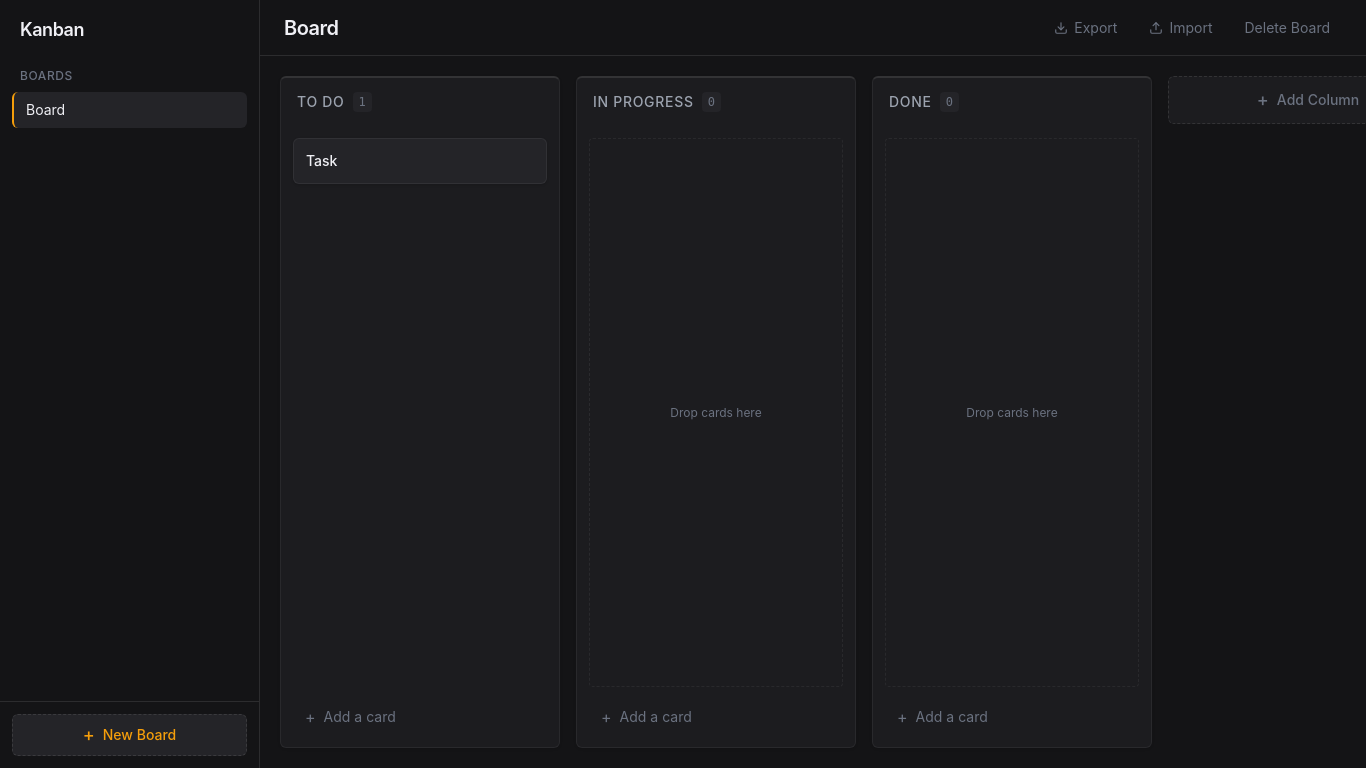
Test: Card detail editing integration › opens modal, edits title/description/priority, saves
The image size is (1366, 768).
Click the button "Task": (322, 161) top-left (306, 151), bottom-right (337, 171)
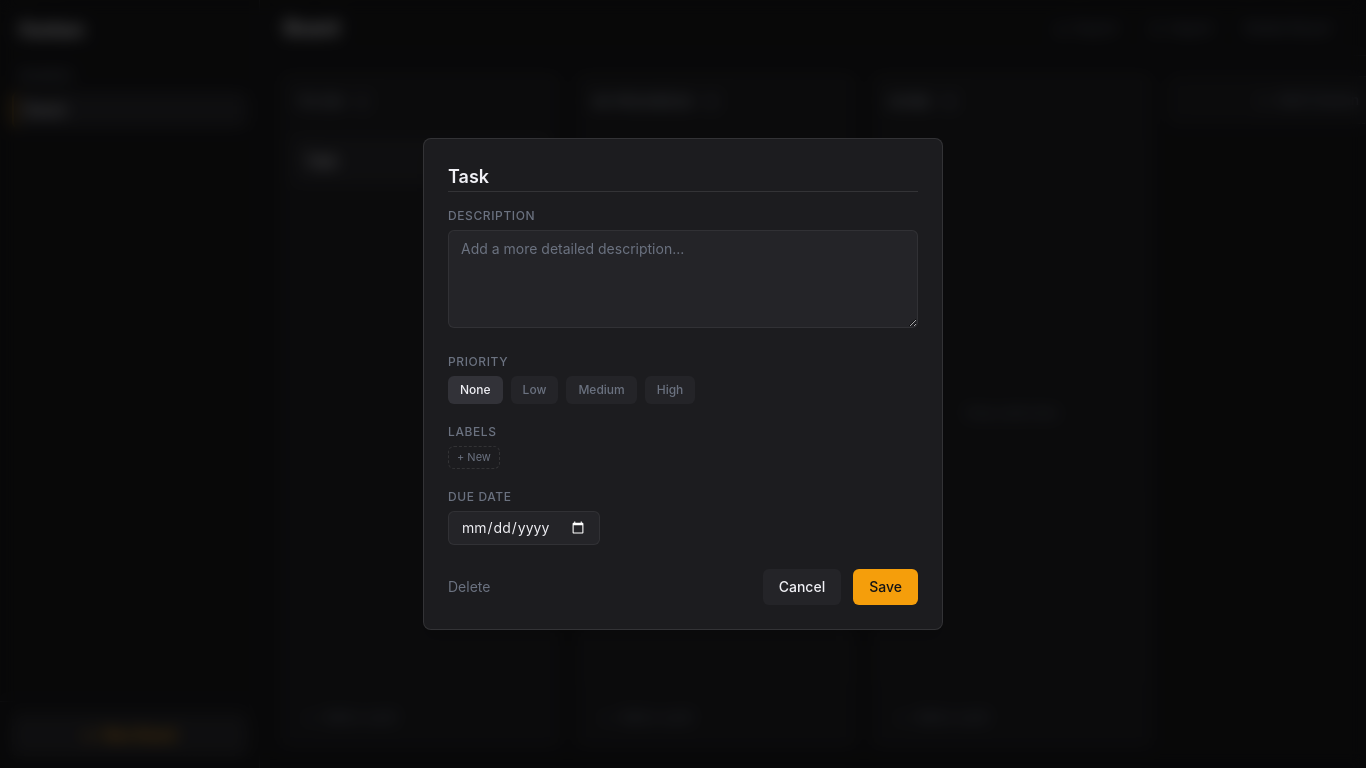
expect the dialog is shown: met, box top-left (423, 138), bottom-right (943, 630)
Replace the text in the field showing "Task" with "Updated Task": (683, 178) top-left (448, 163), bottom-right (918, 192)
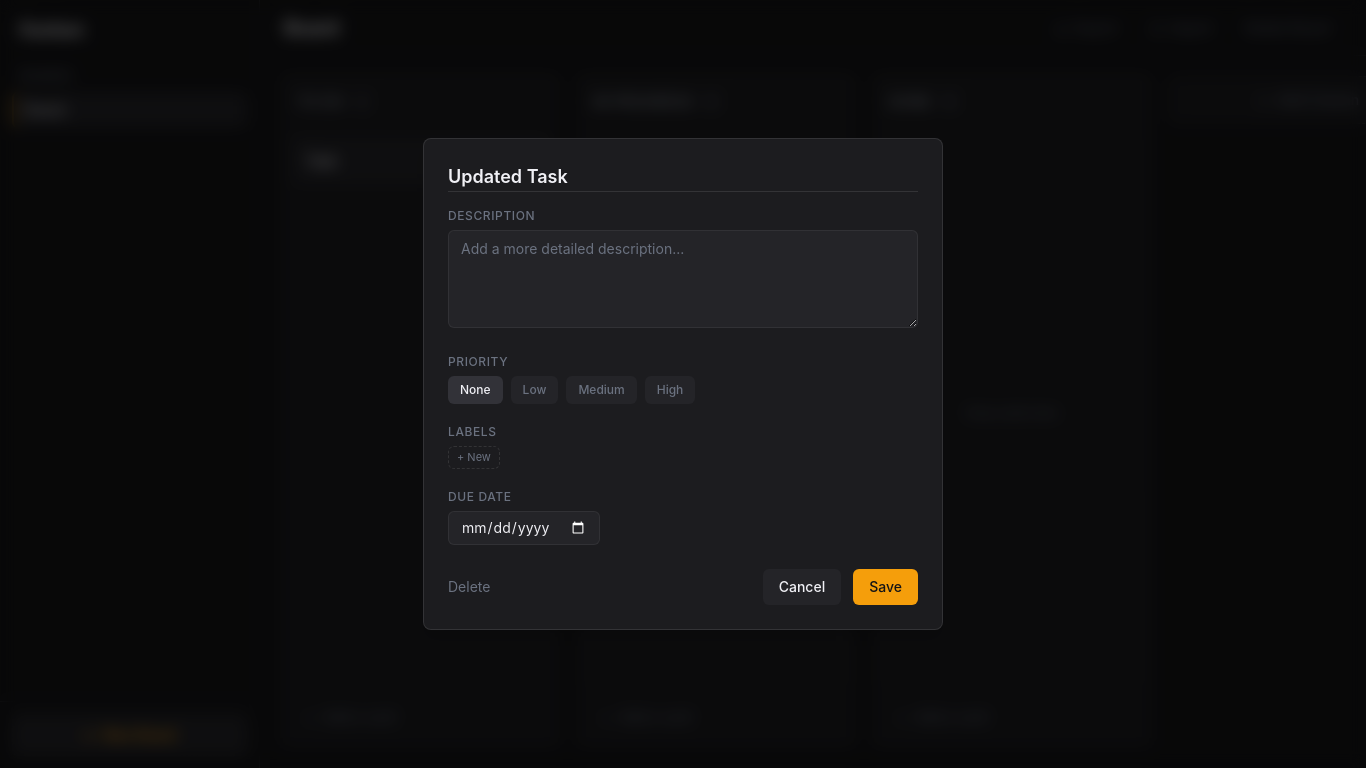
In the text box with placeholder "Add a more detailed description...": (683, 279) top-left (448, 230), bottom-right (918, 328), type "New description"
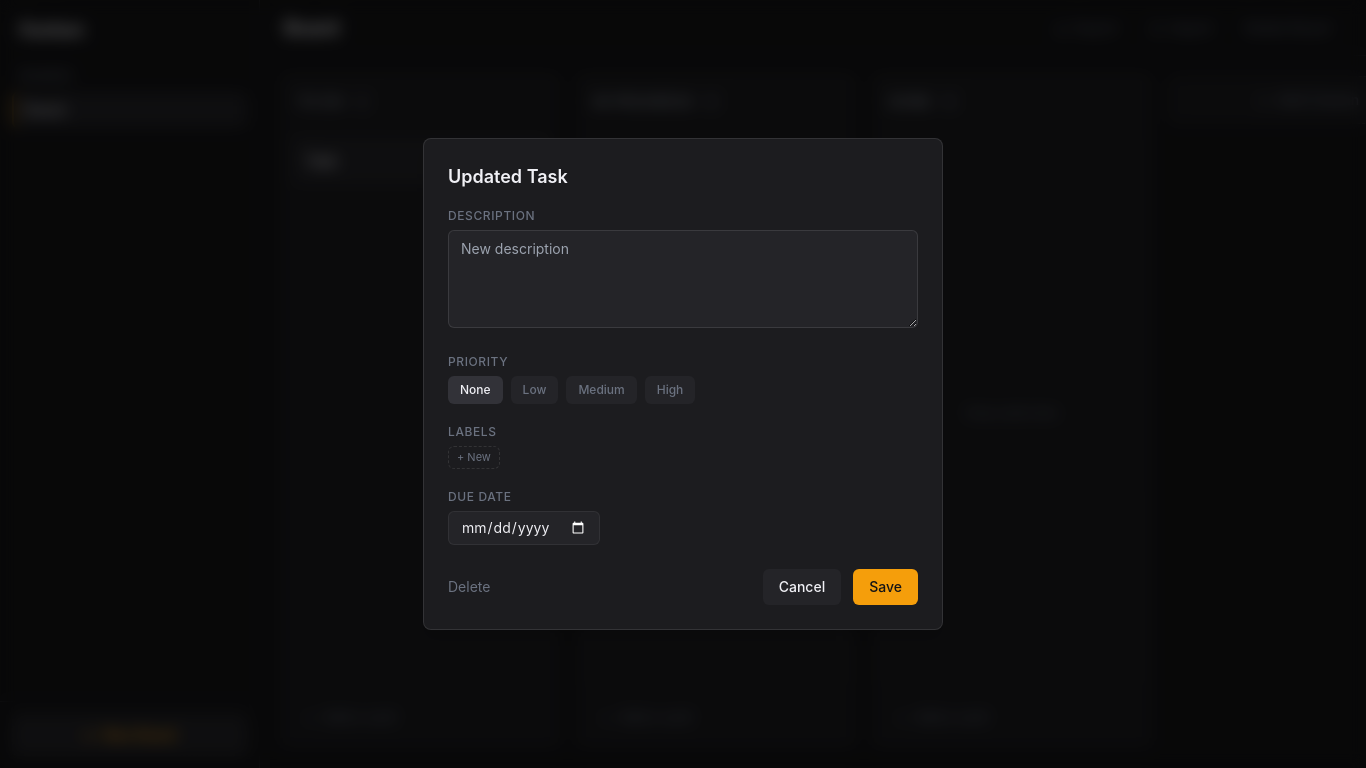
Click the radio button labelled "High": (670, 390) top-left (645, 376), bottom-right (695, 404)
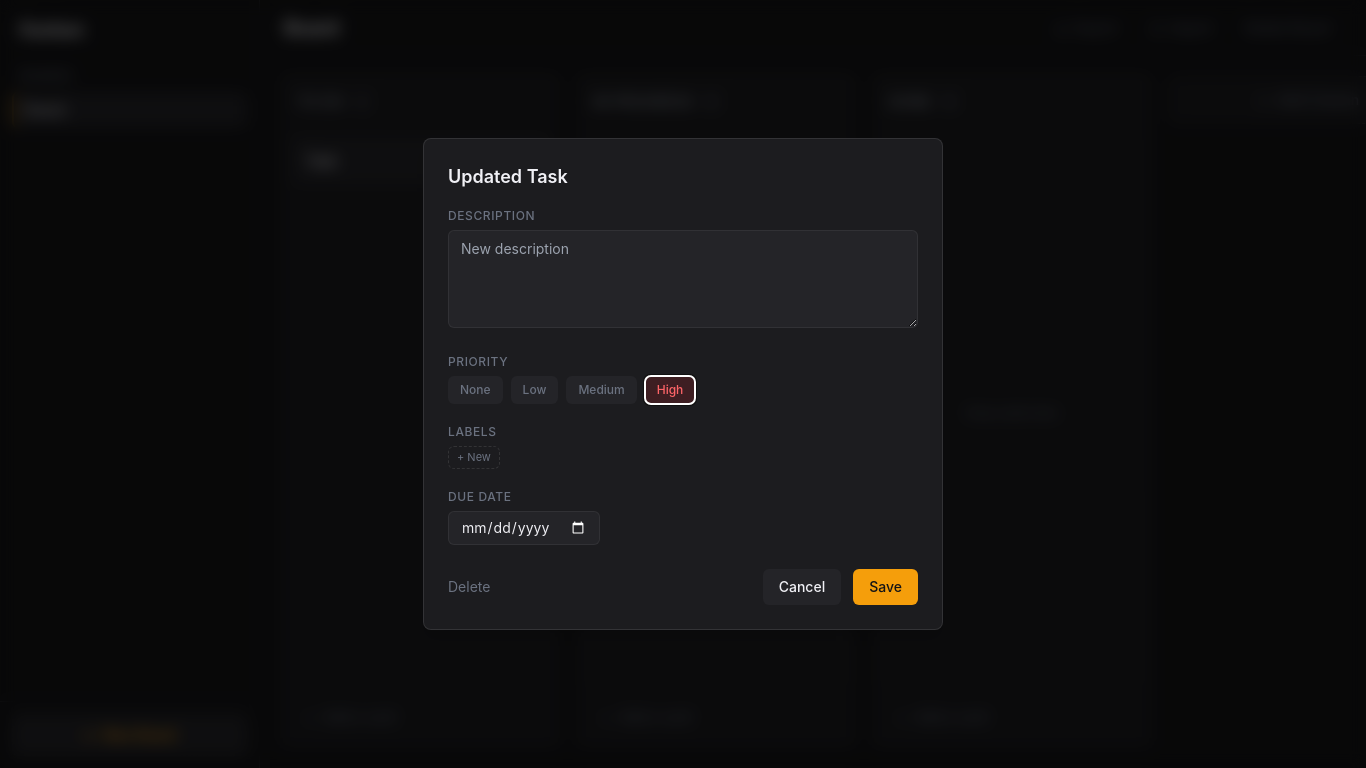
Click the button "Save": (886, 587) top-left (853, 569), bottom-right (918, 605)
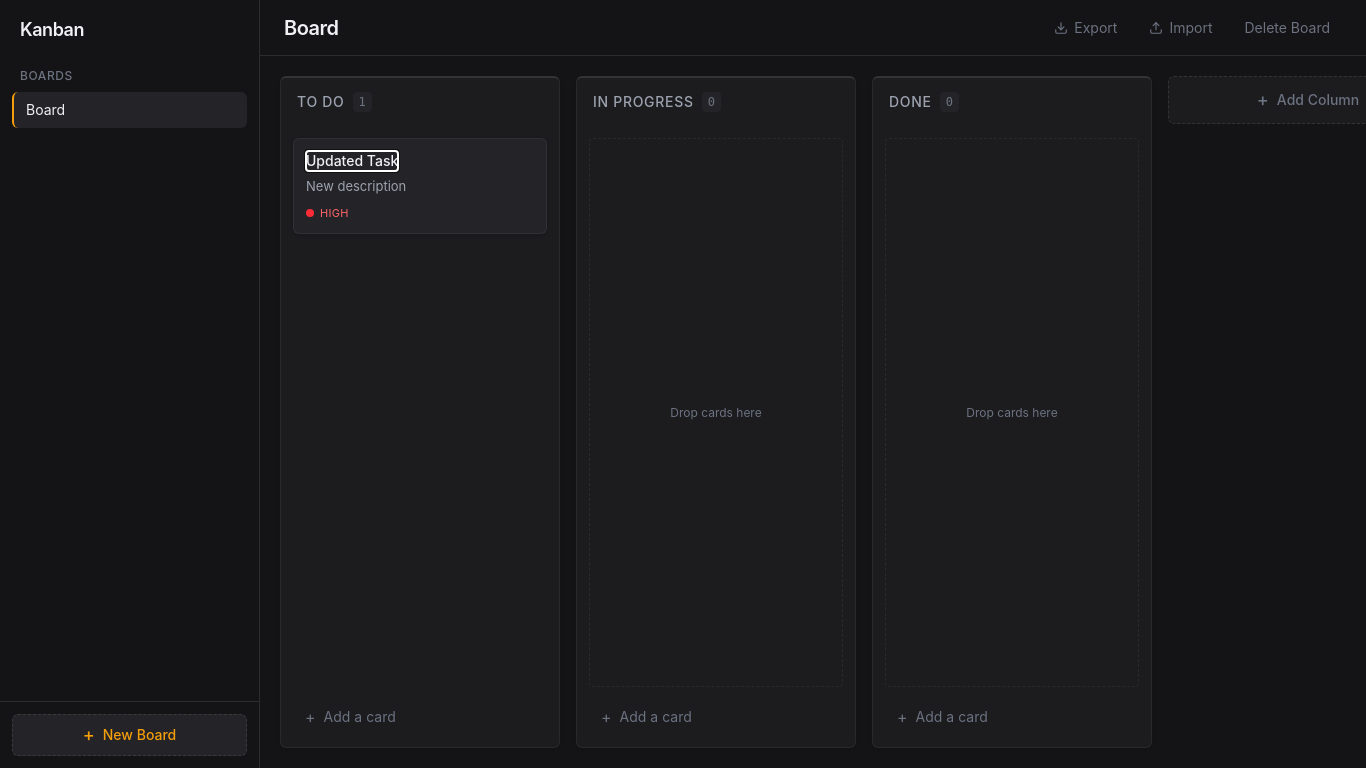
expect the button "Updated Task" is shown: met, box top-left (306, 151), bottom-right (398, 171)
expect the text "New description" is shown: met, box top-left (306, 178), bottom-right (406, 194)
